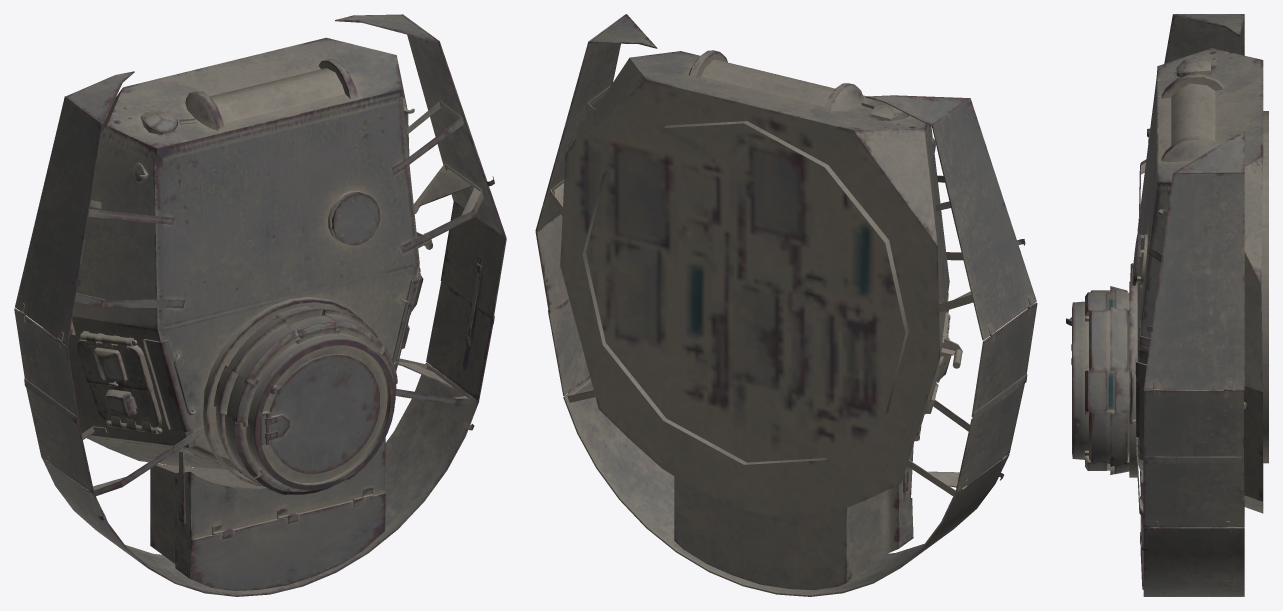
The model's file is Turret_01.glb.
The picture shows the model from 3 angles, left to right: view 1: azimuth 30°, elevation 25°; view 2: azimuth 150°, elevation 25°; view 3: azimuth 270°, elevation 25°; orthographic projection. The views are drawn at different scales.
Visible parts, largest first — view 1: set_0_group_0; view 2: set_0_group_0; view 3: set_0_group_0.
Part boxes in pixels (x1,y1,x2,y2): set_0_group_0: (14,14,506,596); set_0_group_0: (535,14,1037,596); set_0_group_0: (1066,14,1268,596).
Size of the model in its own units: 2.48 by 2.71 by 1.02.
Materials: 1 (1 with a texture image).
